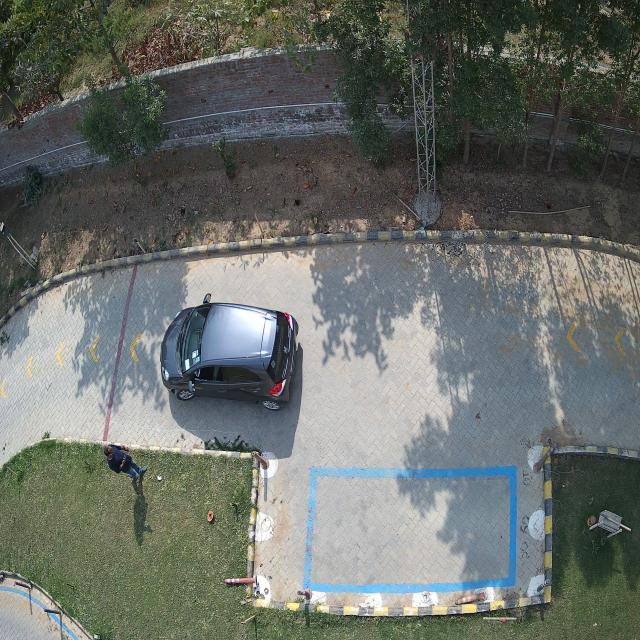car: (160, 295, 299, 410)
